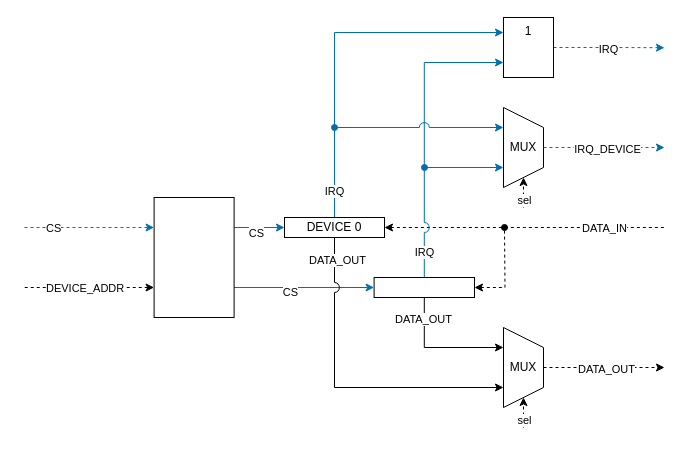
Some shapes in this 690 by 453 pixel diagram are drawn without their labels. The centre of each missing label's shape, as x and y in pixels:
Adress Decoder: point 193,257
DEVICE 1: point 423,287
